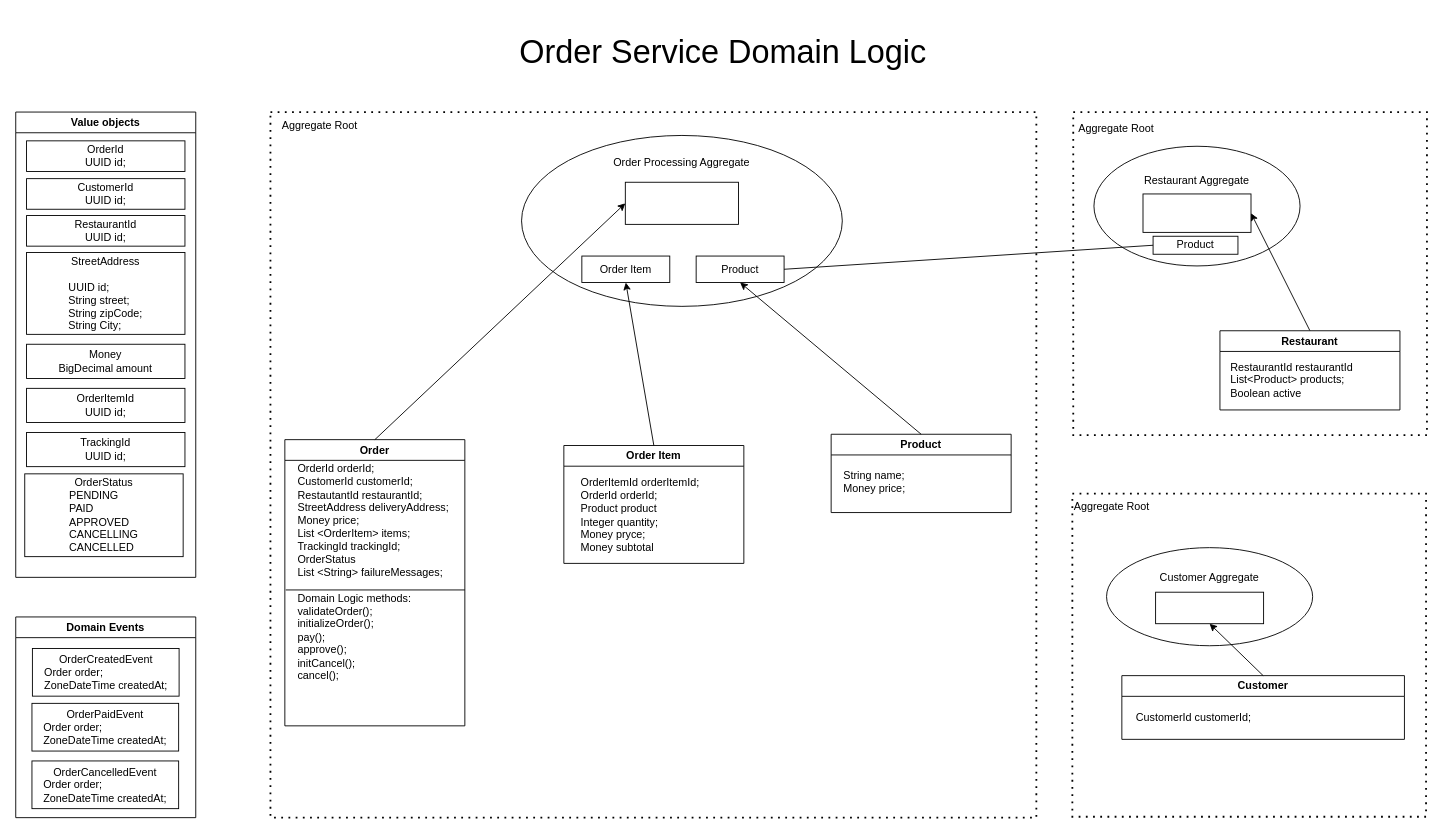
The diagram is 1444 pixels wide and 833 high, and some of its shapes have lost their labels. The centre of each missing label's shape, as x and y in pixels:
"Customer (Aggregate Root)" belongs at [1209,607].
"Order (Aggregate Root)" belongs at [681,202].
"Restaurant (Aggregate Root)" belongs at [1196,212].
